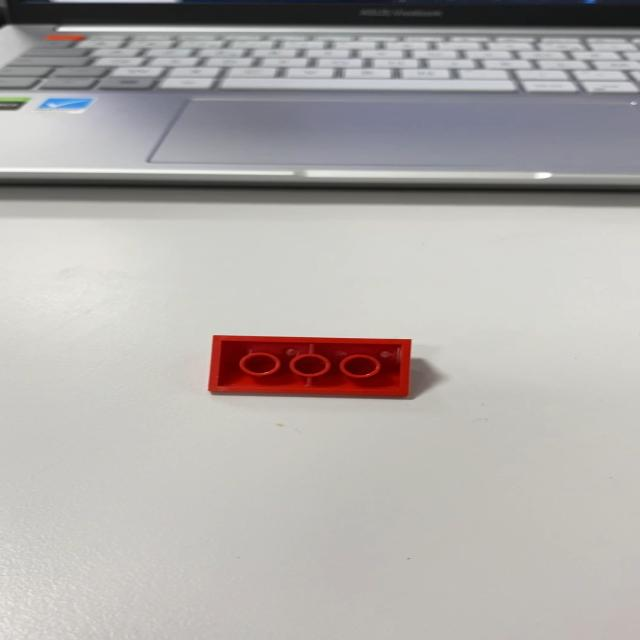P4x2x1: (203, 334, 409, 398)
